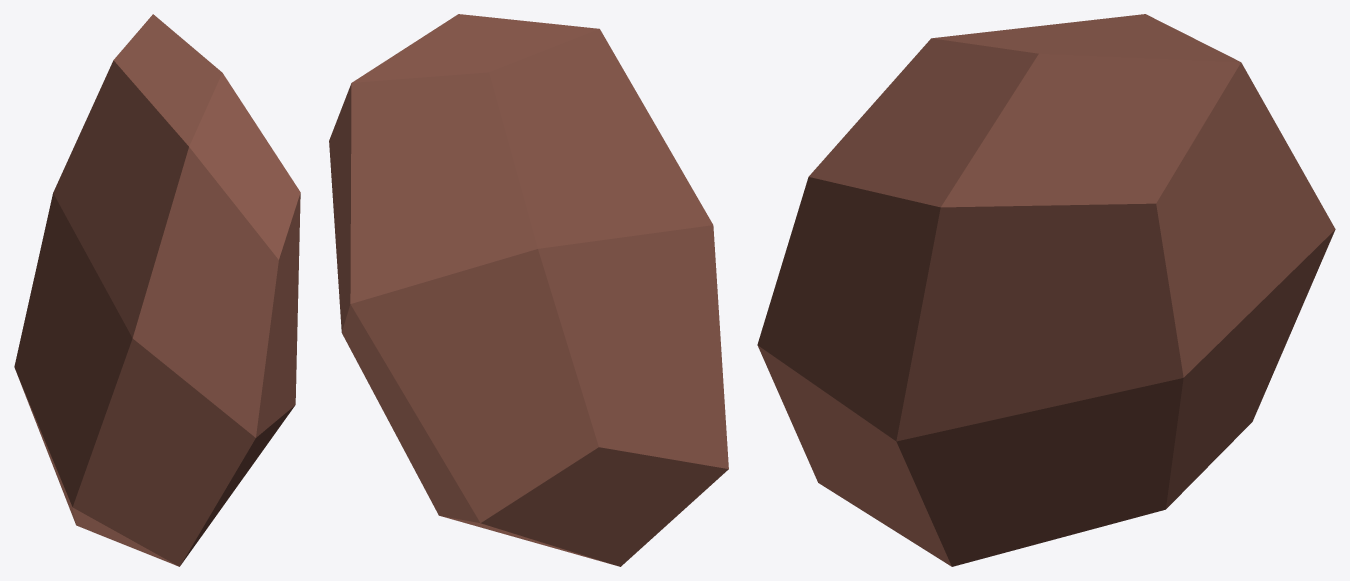
The model's file is 01_03Asteroid.fbx.
3 renders of one model, left to right at view 1: azimuth 30°, elevation 25°; view 2: azimuth 150°, elevation 25°; view 3: azimuth 270°, elevation 25°, orthographic. The views are drawn at different scales.
Visible parts, largest first — view 1: Icosphere.002; view 2: Icosphere.002; view 3: Icosphere.002.
Boxes of the visible parts, x1,y1,x2,y2 form: Icosphere.002: [14, 14, 300, 566]; Icosphere.002: [329, 14, 728, 566]; Icosphere.002: [757, 14, 1335, 566].
Size of the model in its own units: 42.91 by 71.87 by 67.46.
